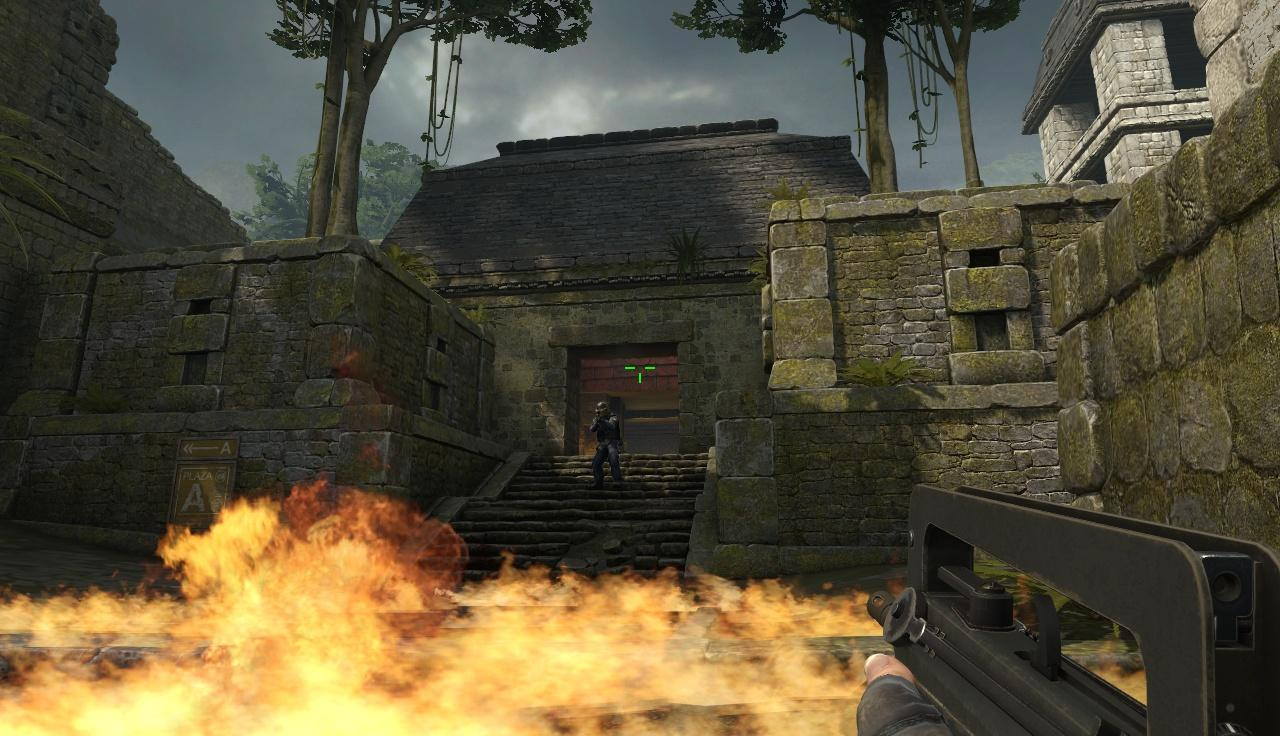ct: (592, 401, 619, 482)
cthead: (593, 402, 607, 420)
rifle: (878, 522, 1280, 736)
